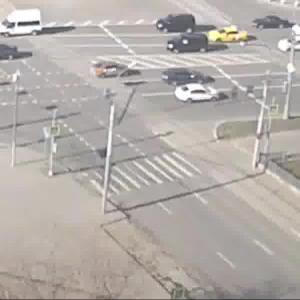car: (1, 10, 48, 39), (150, 14, 199, 36), (157, 71, 212, 90), (96, 58, 139, 82), (169, 33, 209, 58), (203, 26, 253, 46), (173, 85, 223, 104), (249, 14, 294, 32), (1, 41, 21, 63), (279, 35, 300, 55)
